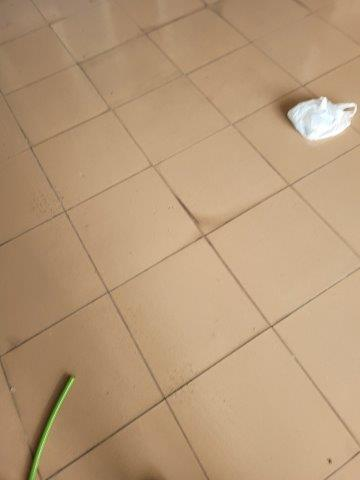plastik: (283, 98, 358, 143)
